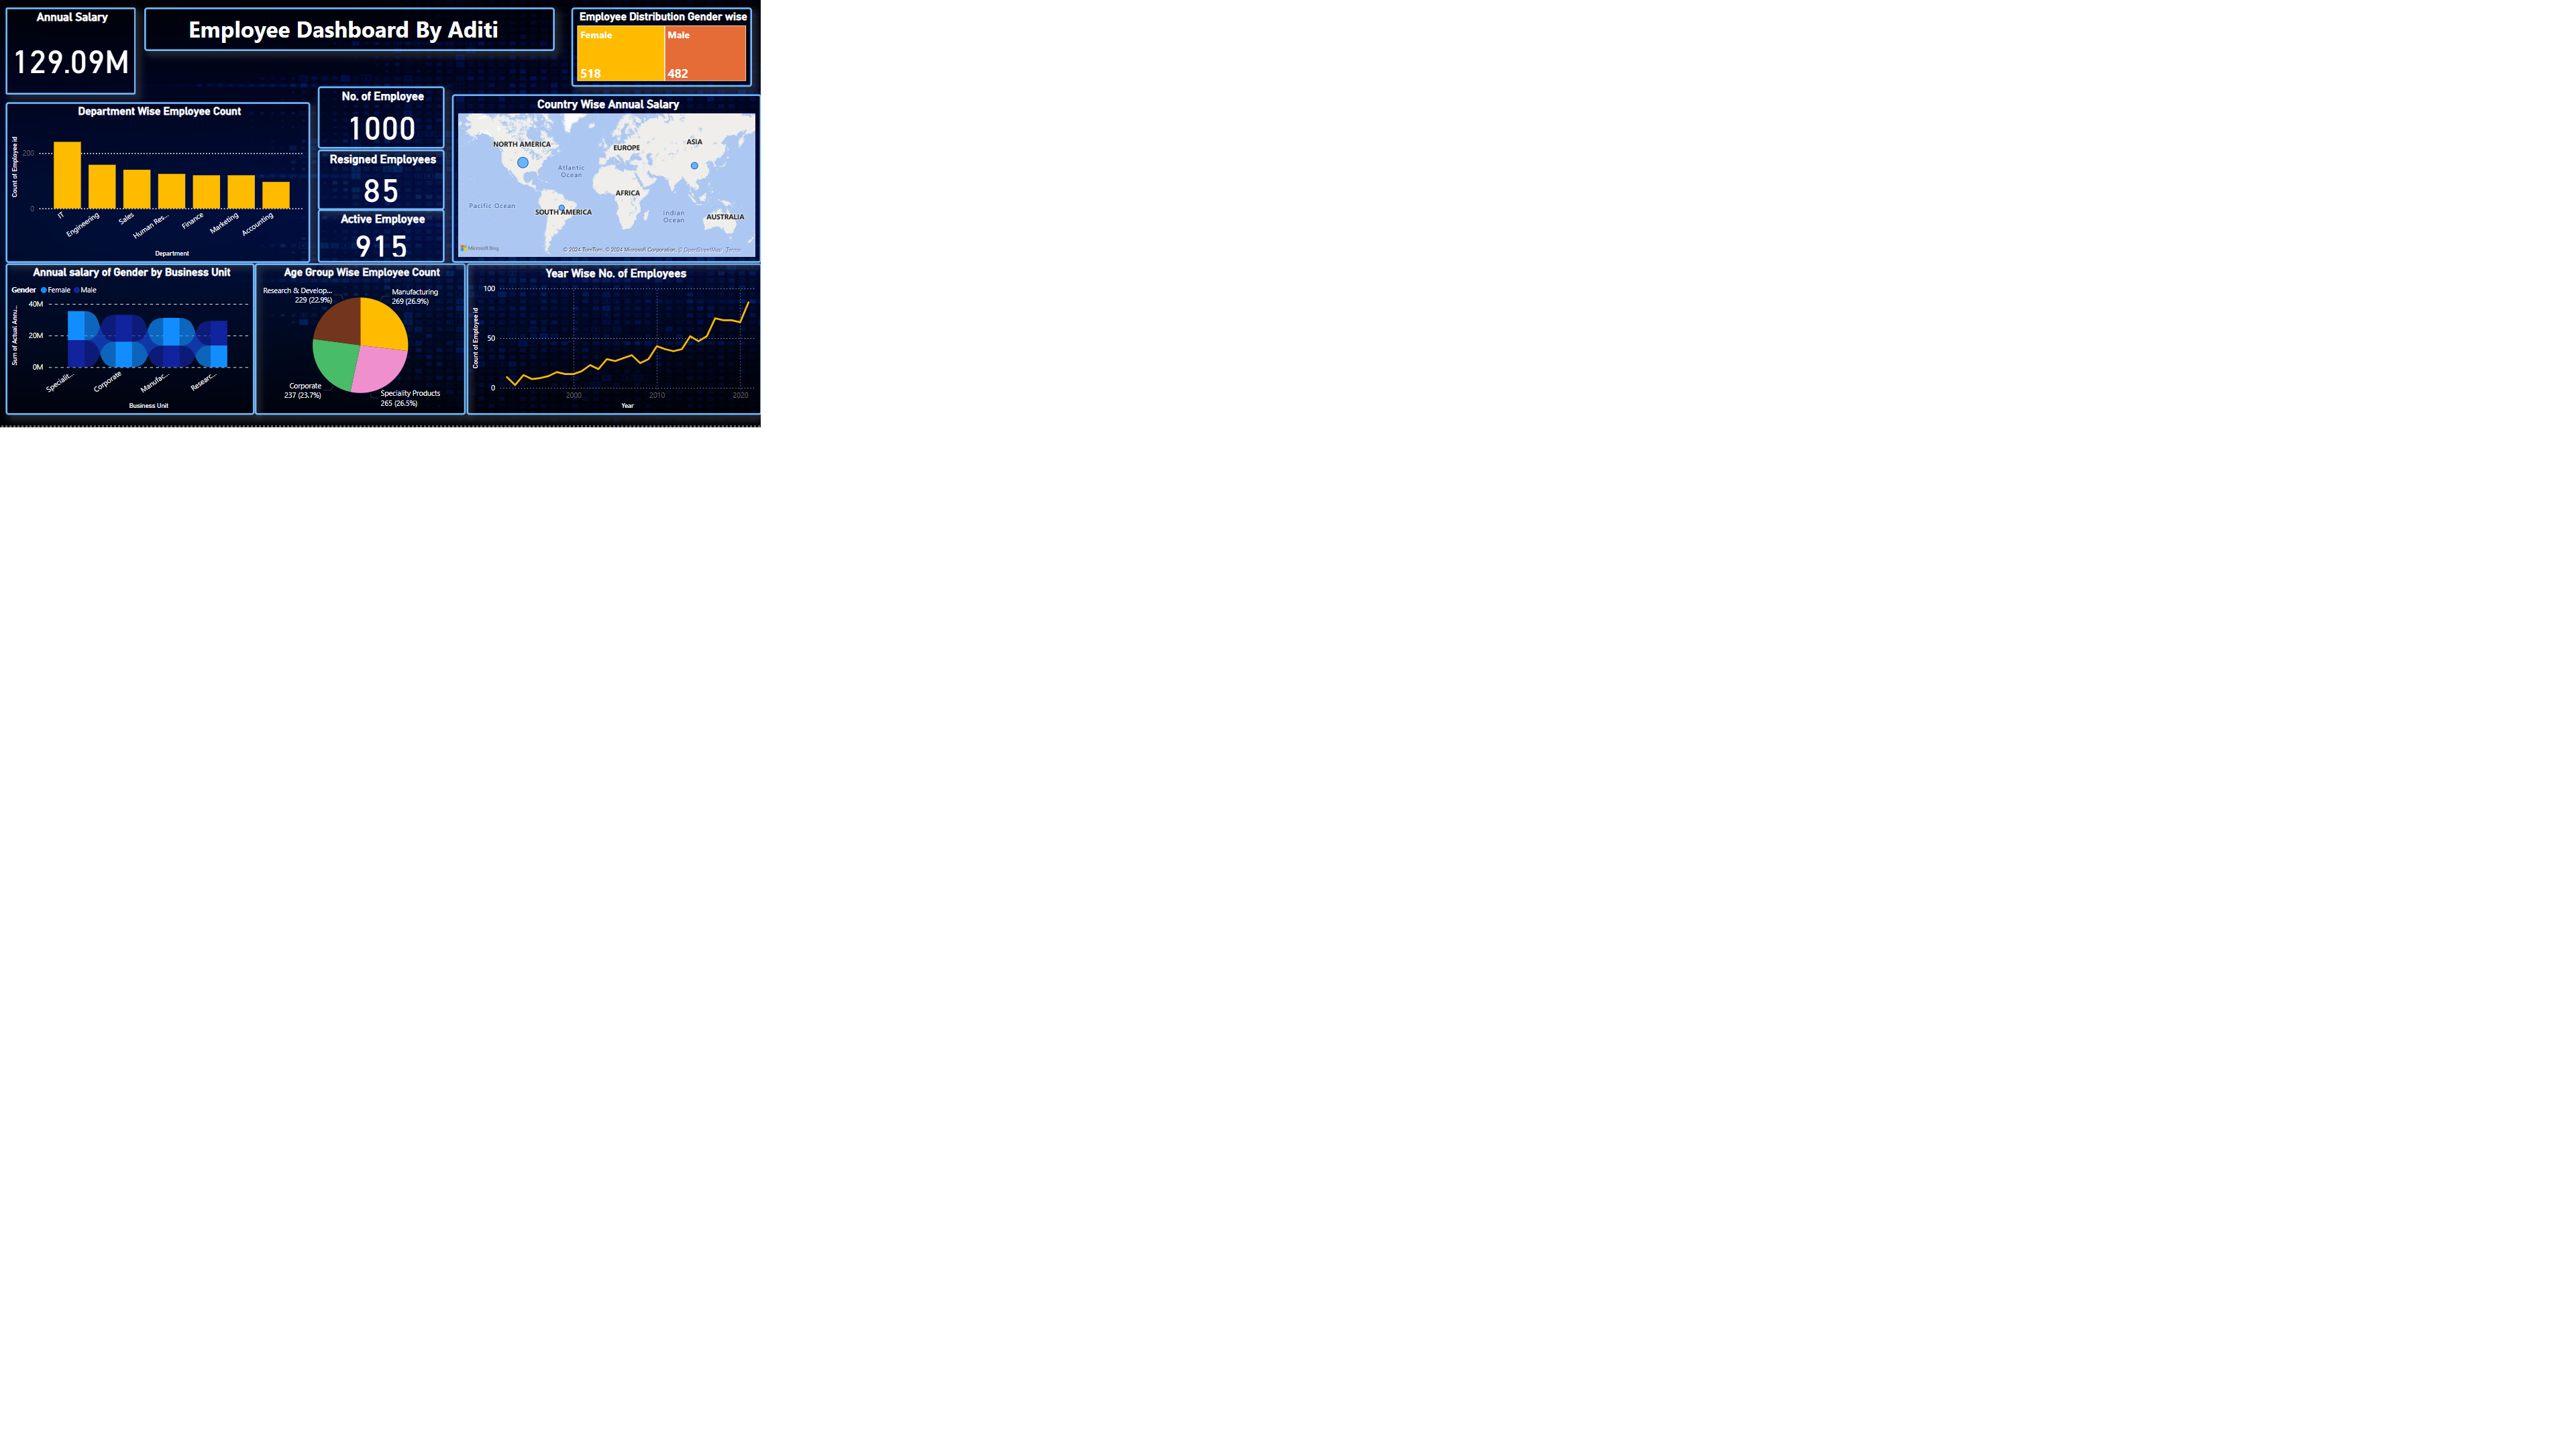

The dashboard page shown, as its layout file describes it:
{"tool":"powerbi","page":{"name":"Page 1","canvas":[1280,720],"ordinal":0},"visuals":[{"type":"card","title":"No. of Employee","fields":{"Values":["Sheet1.Employee id"]},"box":[533.3,150,213.3,105],"z":0},{"type":"clusteredColumnChart","title":"Department Wise Employee Count","fields":{"Category":["Sheet1.Department"],"Y":["Sheet1.Employee id"]},"box":[10,176.7,511.7,270],"z":1000},{"type":"ribbonChart","title":"Annual salary of Gender by Business Unit ","fields":{"Category":["Sheet1.Business Unit"],"Y":["Sheet1.Actual  Annual salary"],"Series":["Sheet1.Gender"]},"box":[10,446.7,418.3,255],"z":2000},{"type":"pieChart","title":"Age Group Wise Employee Count ","fields":{"Y":["Sheet1.Employee id"],"Category":["Sheet1.Business Unit"]},"box":[428.3,446.7,355,255],"z":3000},{"type":"lineChart","title":"Year Wise No. of Employees","fields":{"Category":["Sheet1.Hire Date.Variation.Date Hierarchy.Year"],"Y":["Sheet1.Employee id"]},"box":[783.3,446.7,496.7,255],"z":4000},{"type":"treemap","title":"Employee Distribution Gender wise","fields":{"Group":["Sheet1.Gender"],"Values":["Sheet1.Employee id"]},"box":[960,16.7,303.3,133.3],"z":6000},{"type":"card","title":"Annual Salary","fields":{"Values":["Sheet1.Actual  Annual salary"]},"box":[10,16.7,218.3,146.7],"z":7000},{"type":"card","title":"Resigned Employees","fields":{"Values":["Sheet1.Actual Exit "]},"box":[533.3,255,213.3,101.7],"z":8000},{"type":"card","title":"Active Employee","fields":{"Values":["Sheet1.Active Employee"]},"box":[533.3,356.7,213.3,90],"z":9000},{"type":"textbox","box":[241.7,16.7,690,73.3],"z":10000},{"type":"map","title":"  Country Wise Annual Salary","fields":{"Category":["Sheet1.Country"],"Size":["Sheet1.Annual Salary"]},"box":[760,163.3,520,283.3],"z":10001}]}

Visuals, with their boxes in screenshot pixels (x1, y1, x2, y2), scaled from the page's 1280x720 canvas onto the 2576x1449 screenshot:
"No. of Employee" card: box=[1073, 302, 1503, 513]
"Department Wise Employee Count" clusteredColumnChart: box=[20, 356, 1050, 899]
"Annual salary of Gender by Business Unit " ribbonChart: box=[20, 899, 862, 1412]
"Age Group Wise Employee Count " pieChart: box=[862, 899, 1576, 1412]
"Year Wise No. of Employees" lineChart: box=[1576, 899, 2575, 1412]
"Employee Distribution Gender wise" treemap: box=[1932, 34, 2542, 302]
"Annual Salary" card: box=[20, 34, 460, 329]
"Resigned Employees" card: box=[1073, 513, 1503, 718]
"Active Employee" card: box=[1073, 718, 1503, 899]
textbox: box=[486, 34, 1875, 181]
"  Country Wise Annual Salary" map: box=[1529, 329, 2575, 899]
